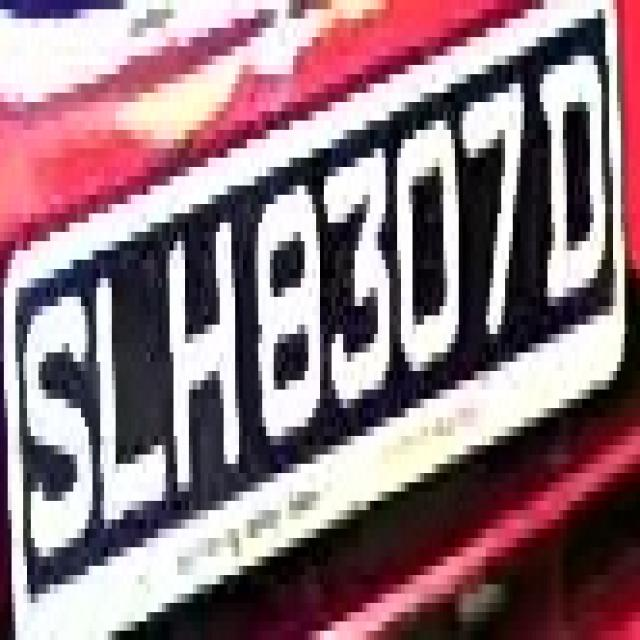0: (386, 139, 470, 371)
3: (324, 167, 401, 417)
7: (459, 65, 528, 352)
8: (243, 139, 331, 445)
D: (532, 46, 613, 325)
H: (154, 195, 251, 501)
L: (89, 241, 162, 501)
S: (20, 250, 100, 548)
